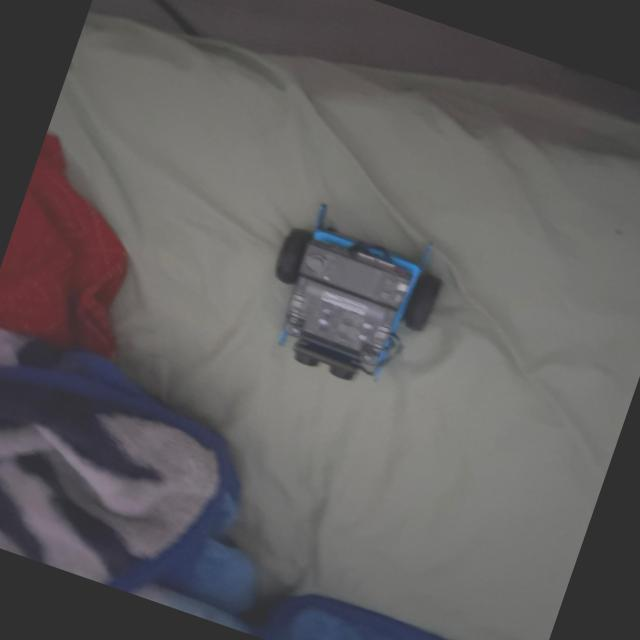mbot-detection: (226, 184, 469, 408)
